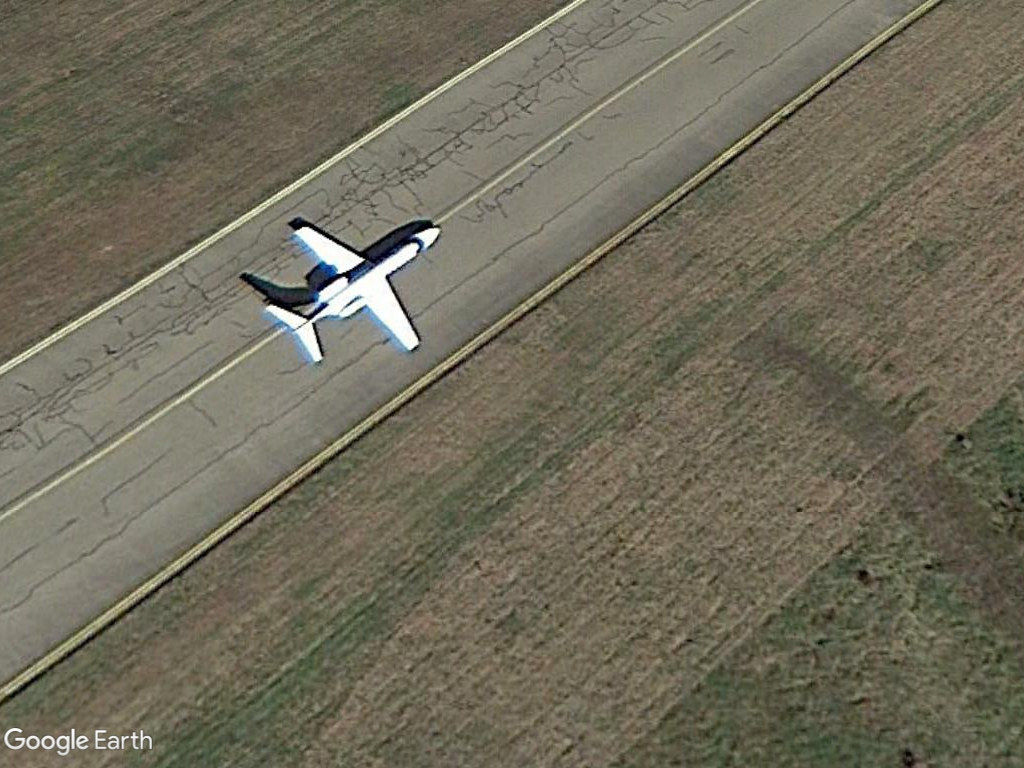chartered: (260, 218, 442, 371)
